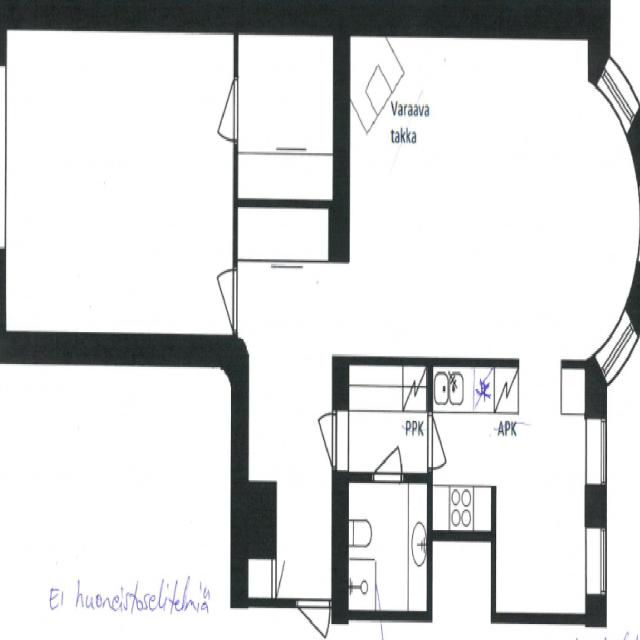door: (300, 412, 348, 470), (197, 76, 237, 142), (199, 266, 237, 327), (373, 416, 402, 480), (427, 415, 460, 468), (297, 598, 330, 640), (272, 560, 294, 596), (172, 88, 190, 130), (54, 88, 68, 125)
